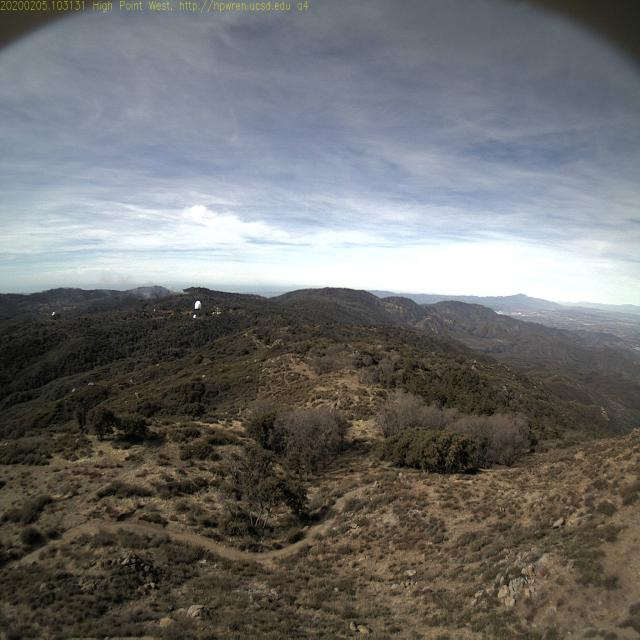smoke: (101, 272, 167, 300), (169, 285, 189, 296)
